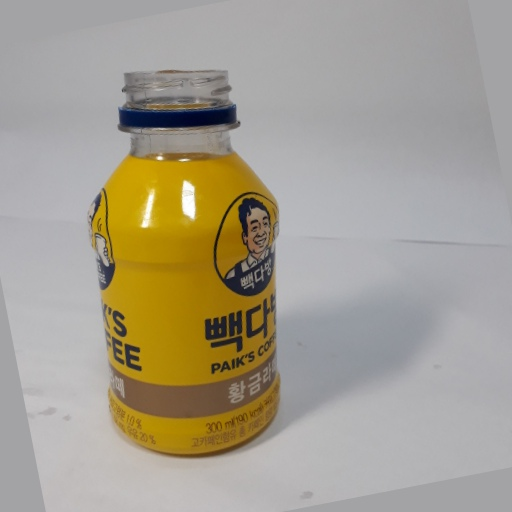Plastic_0: (83, 63, 288, 461)
